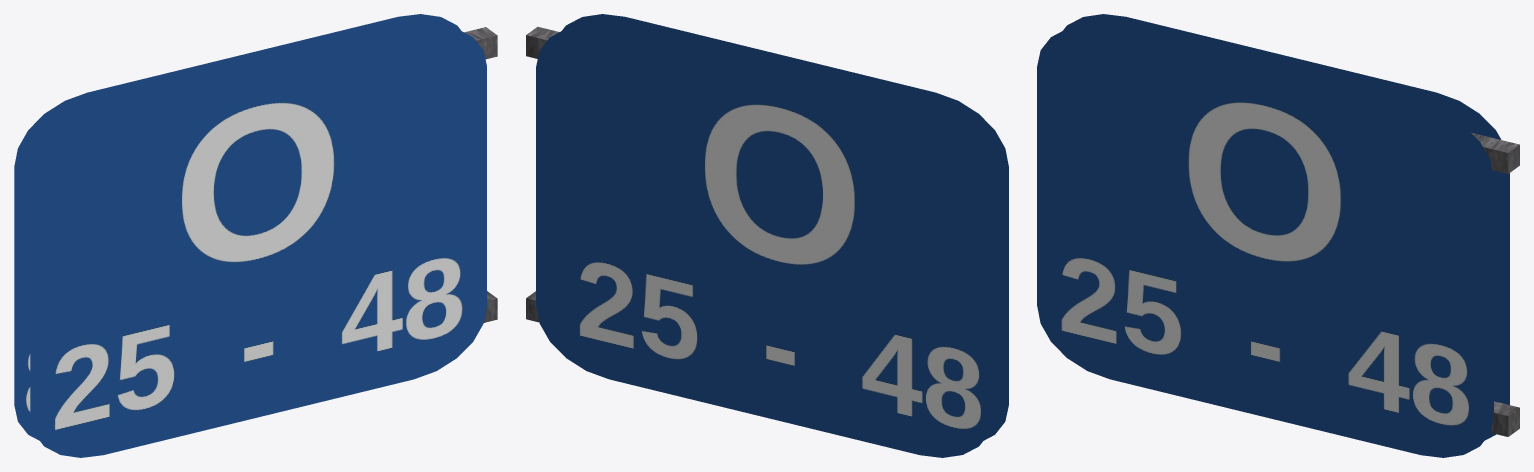
3 renders of one model, left to right at view 1: azimuth 30°, elevation 25°; view 2: azimuth 150°, elevation 25°; view 3: azimuth 330°, elevation 25°, orthographic.
Visible parts, largest first — view 1: Cube; view 2: Cube; view 3: Cube.
Part boxes in pixels (box(x1,y1,x2,y2)): Cube: box(14, 14, 497, 457); Cube: box(526, 14, 1008, 457); Cube: box(1037, 14, 1519, 457).
Size of the model in its own units: 0.9334 by 0.667 by 0.055.
2 materials, 2 textured.
